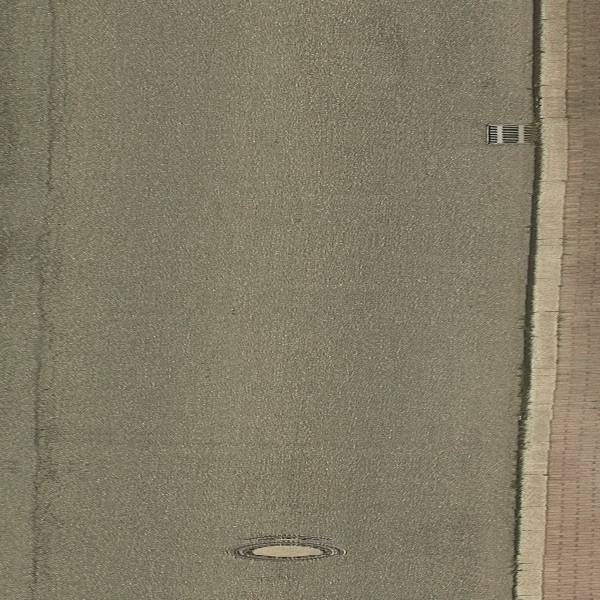road_damage: (21, 317, 68, 600)
